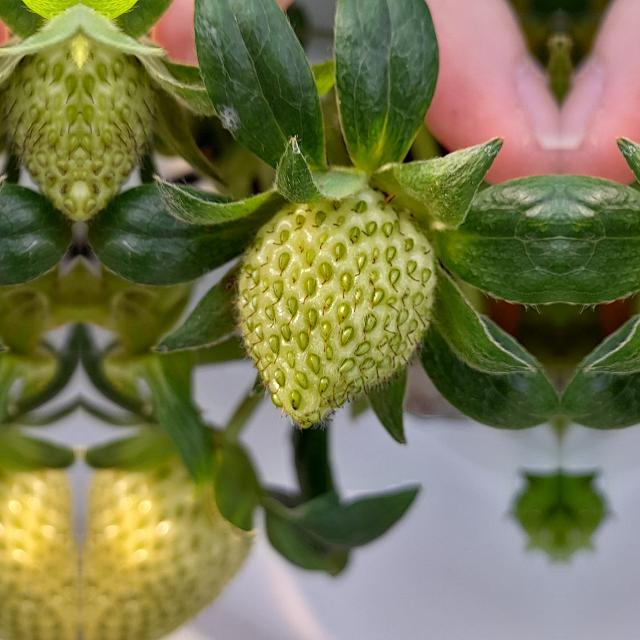Health_25: (230, 181, 440, 433)
